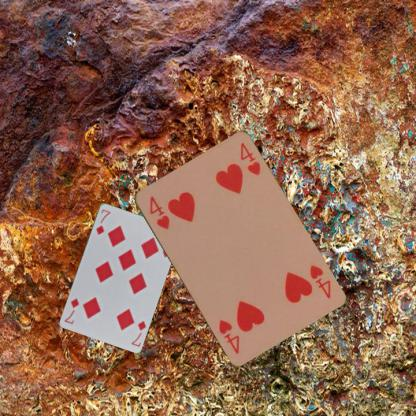4h: (306, 262, 332, 300), (146, 193, 171, 231)
7d: (93, 206, 112, 236), (129, 318, 147, 348)
